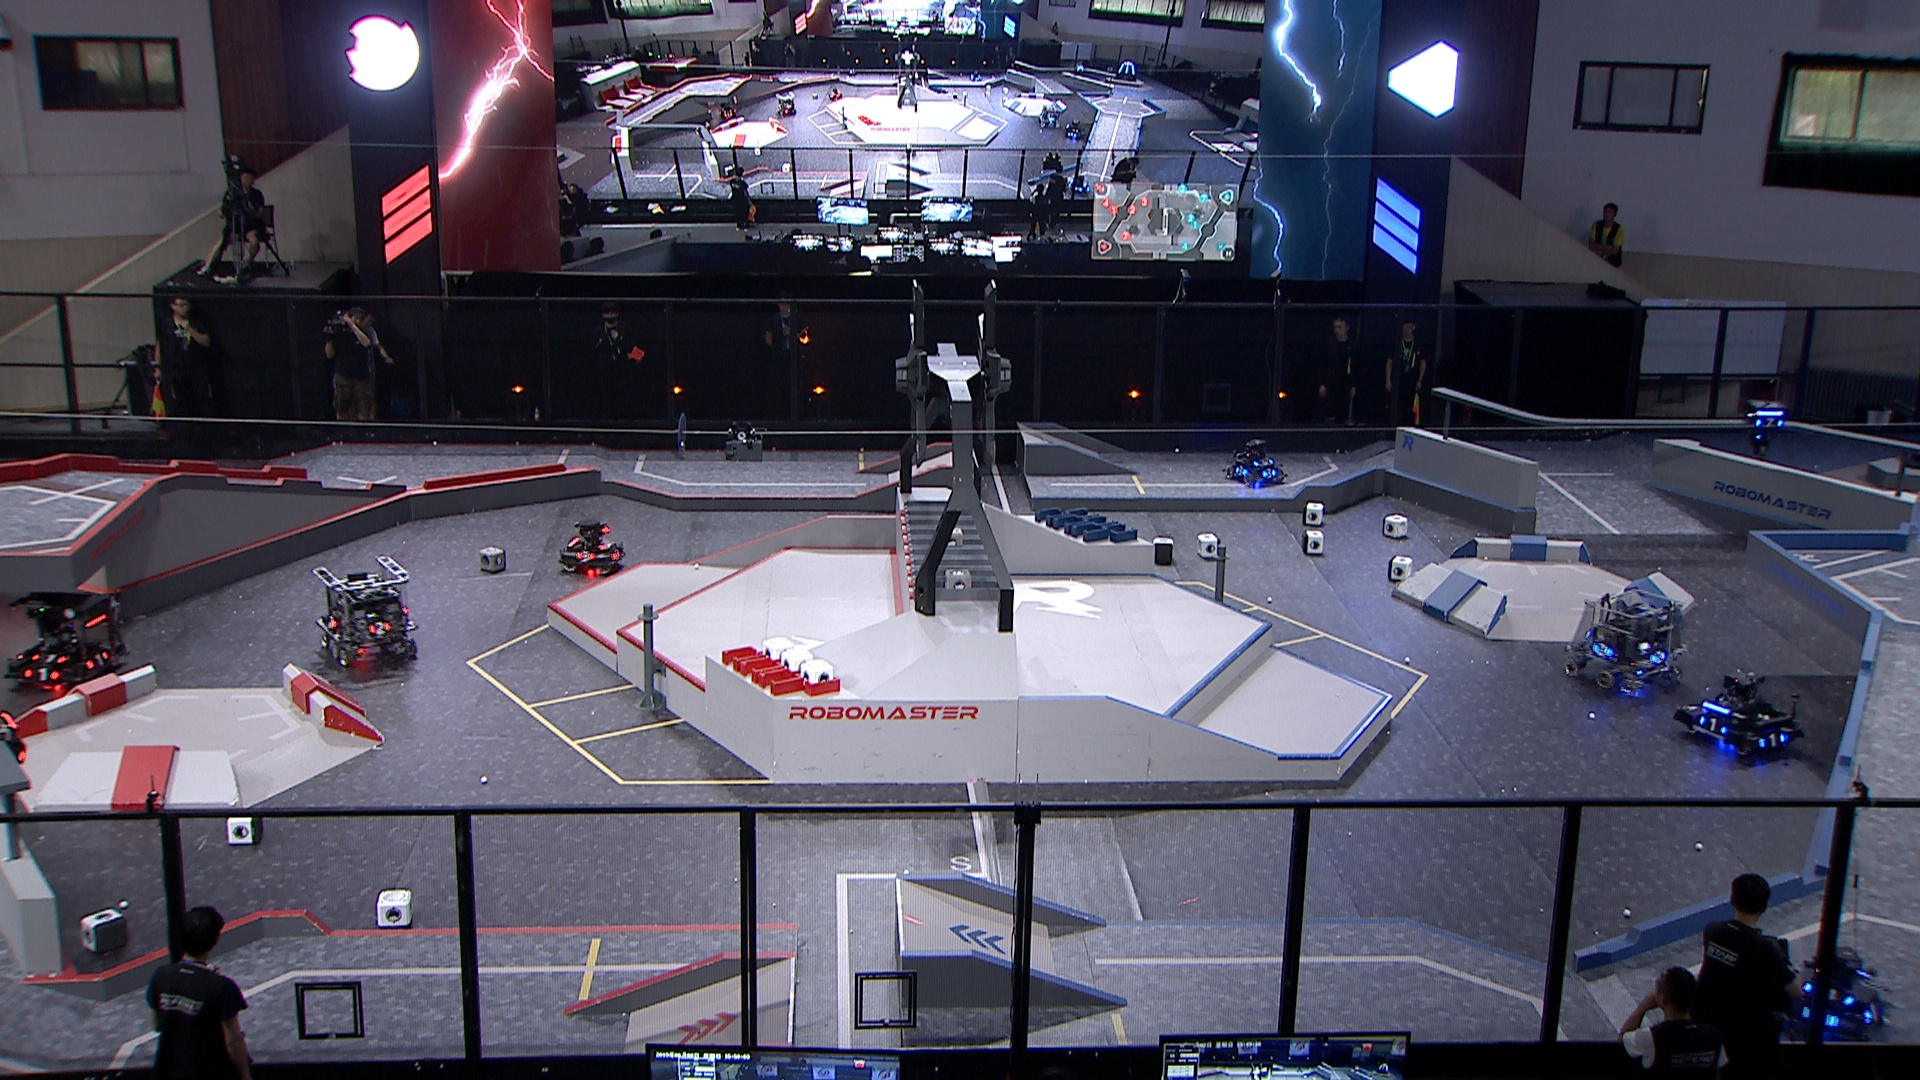armor: (1803, 981, 1855, 1007), (22, 665, 59, 684), (1753, 731, 1789, 750), (1695, 713, 1730, 733), (29, 647, 67, 665), (83, 650, 112, 673), (1859, 1000, 1882, 1029), (1751, 414, 1785, 433), (367, 618, 392, 637), (1249, 454, 1276, 469), (1594, 641, 1614, 659), (1647, 647, 1667, 666), (595, 535, 615, 553), (608, 545, 624, 564), (574, 549, 596, 562), (1234, 463, 1250, 480), (324, 613, 338, 632), (1262, 465, 1278, 480)
car: (1, 583, 129, 698), (1561, 585, 1687, 695), (311, 553, 419, 675), (1673, 666, 1807, 764), (1783, 939, 1888, 1043), (556, 517, 632, 579), (1222, 433, 1288, 491)
ignore: (771, 86, 796, 117), (713, 98, 740, 125), (1065, 171, 1093, 196), (1062, 113, 1084, 142), (1116, 59, 1139, 83), (1039, 105, 1062, 131), (694, 117, 713, 144)
watcher: (1743, 398, 1789, 458)
